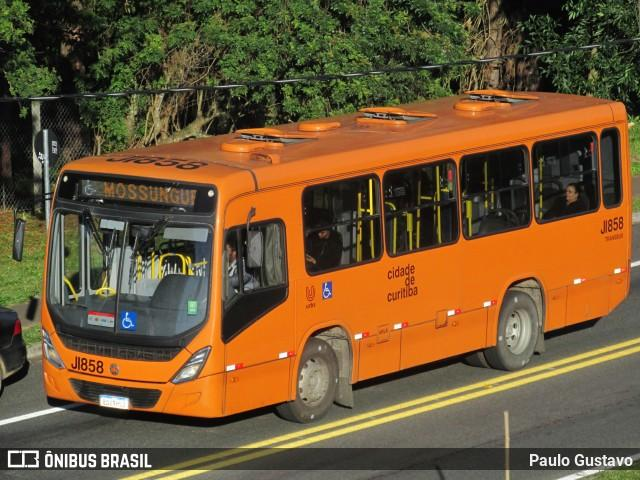MOSSUNGUE: (101, 177, 201, 208)
